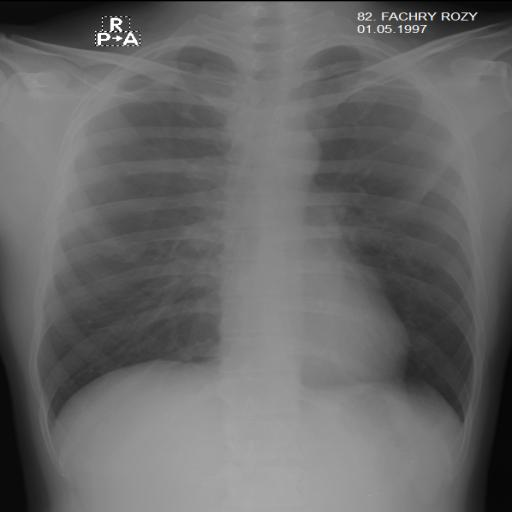normal: (24, 21, 484, 446)
